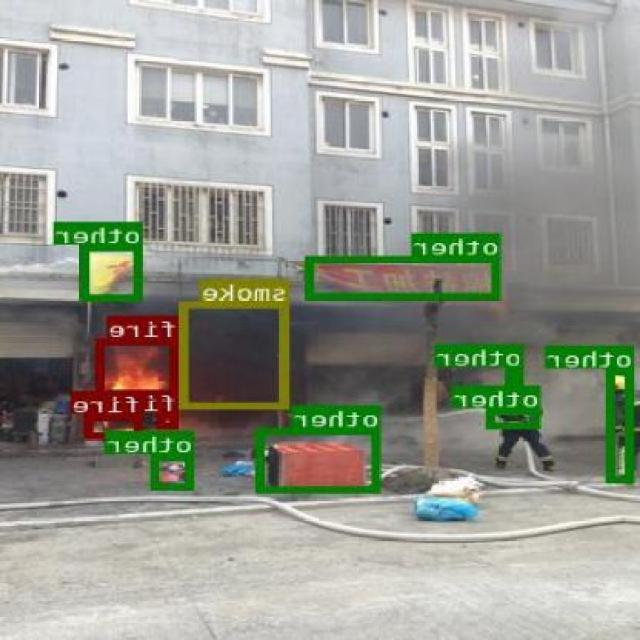Fire: (98, 336, 180, 402), (86, 413, 144, 438), (159, 410, 181, 428)
Smoke: (182, 300, 290, 408)
